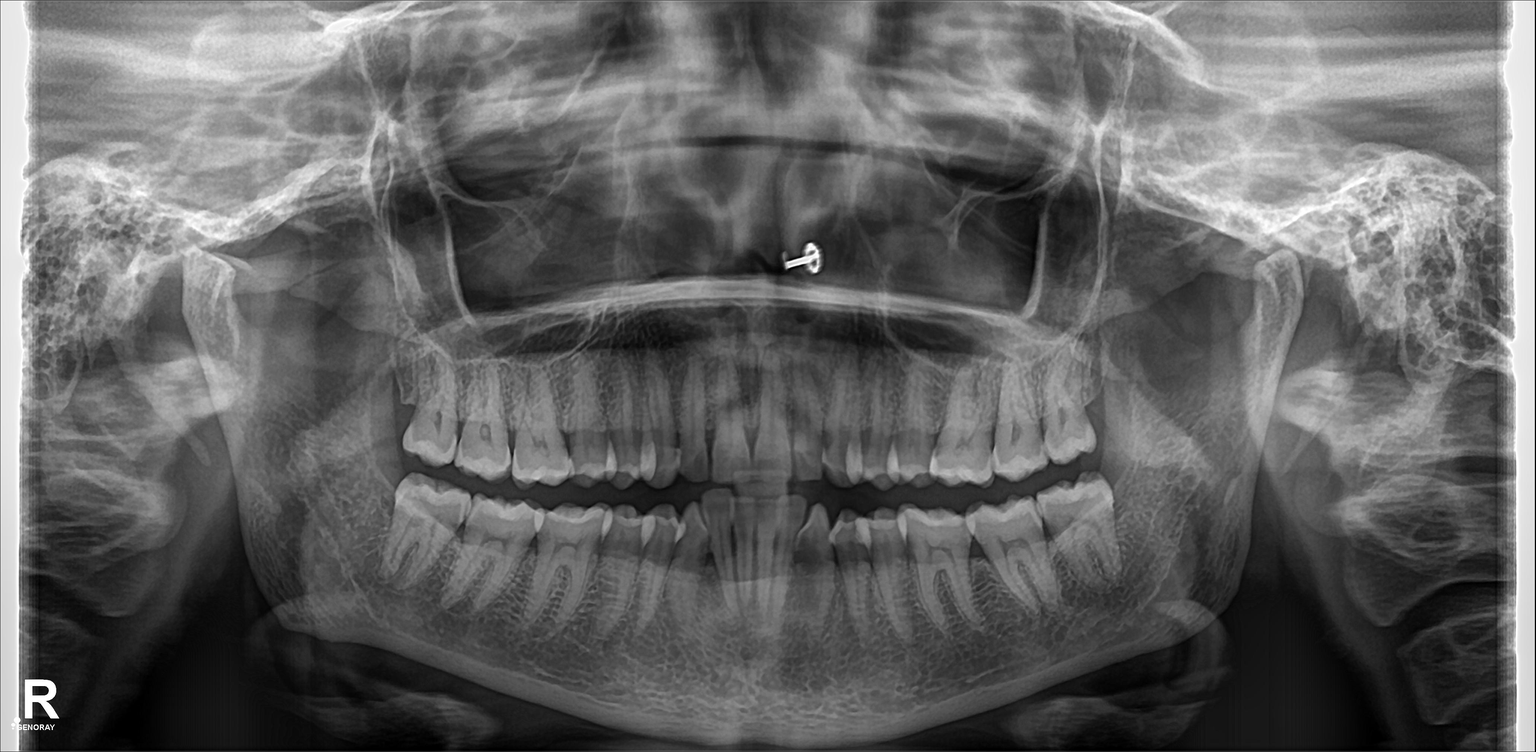Dental Caries: (791, 538, 821, 573)
Missing Tooth: (376, 359, 416, 453)
